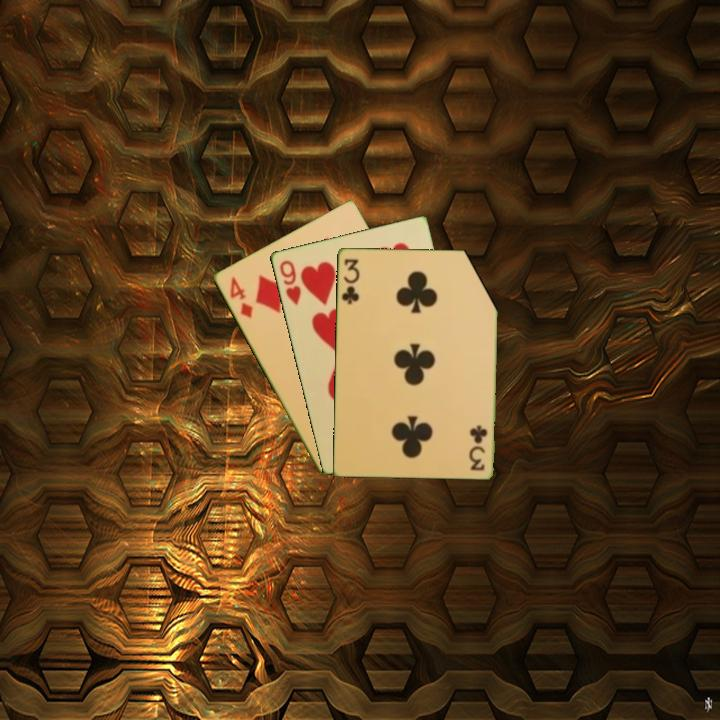3c: (338, 255, 362, 307), (468, 421, 490, 473)
4d: (226, 273, 255, 321)
9h: (276, 256, 304, 307)
